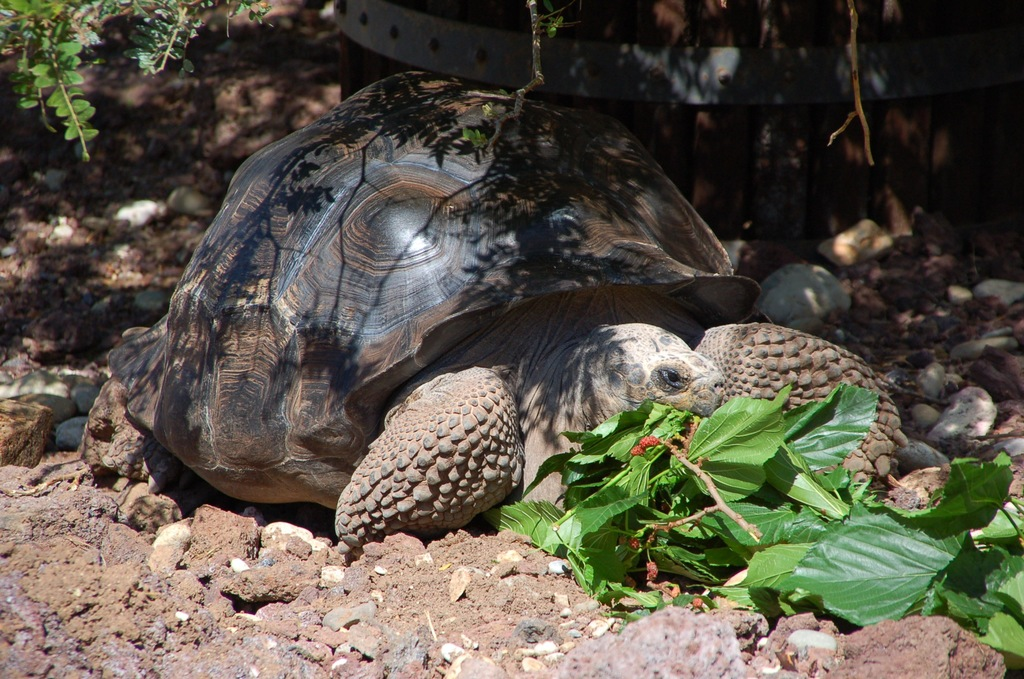Sea turtles: (72, 64, 923, 552)
